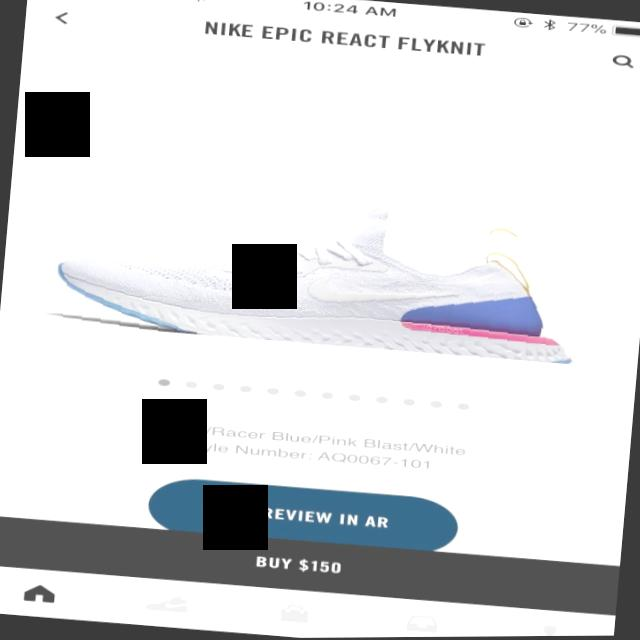shoe: (20, 168, 640, 373)
